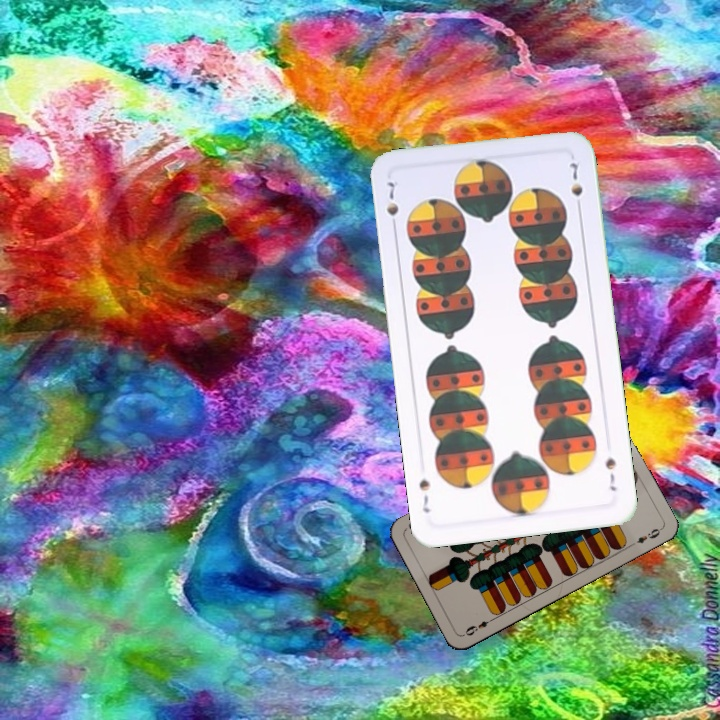E9: (461, 614, 498, 638)
S7: (382, 177, 402, 234), (601, 453, 619, 494)
